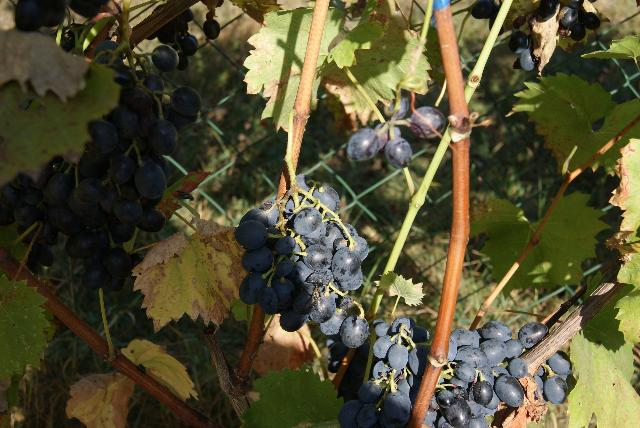grapes: (0, 42, 201, 291), (235, 186, 369, 348), (420, 321, 546, 428), (339, 316, 429, 428)
